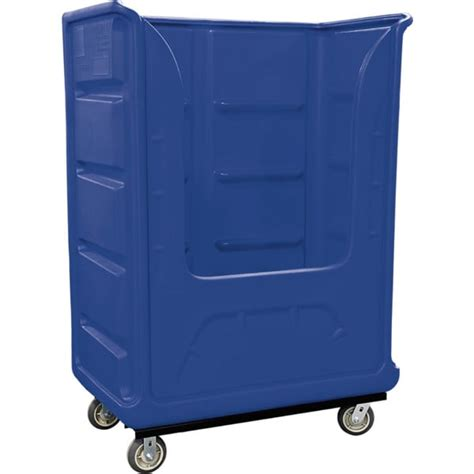Carts: (60, 1, 412, 472)
